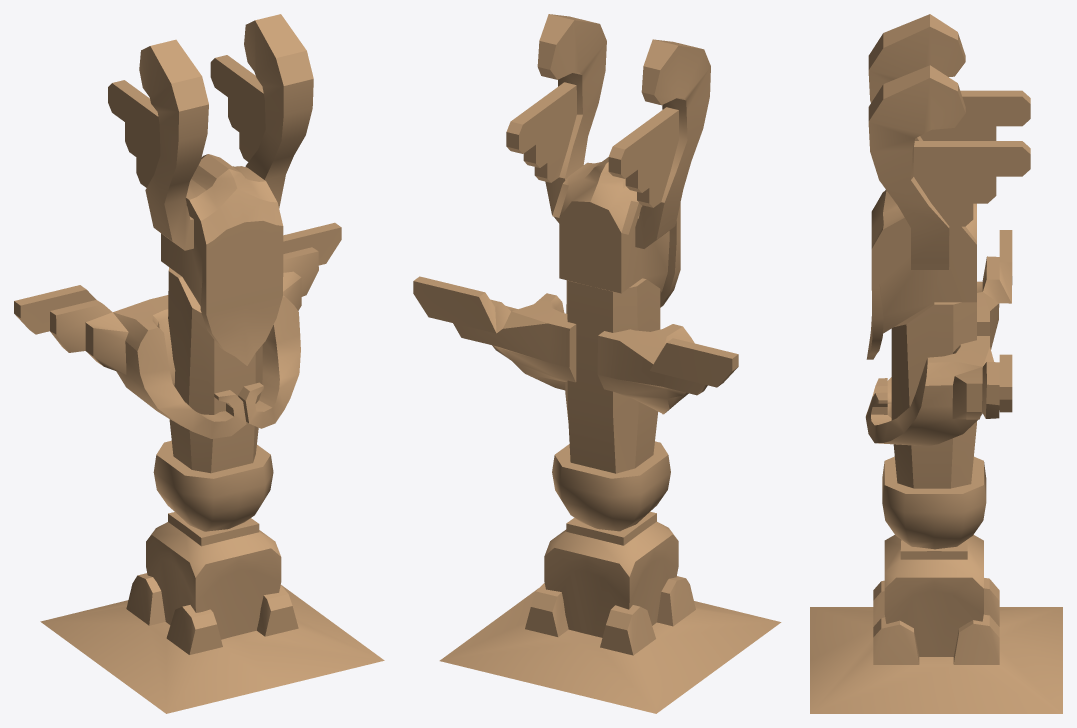
Rendered from OBJ_Sculpture_03.FBX.
3 renders of one model, left to right at view 1: azimuth 30°, elevation 25°; view 2: azimuth 150°, elevation 25°; view 3: azimuth 270°, elevation 25°, orthographic.
Parts seen in each view (by area): view 1: OBJ_Sculpture_03; view 2: OBJ_Sculpture_03; view 3: OBJ_Sculpture_03.
Boxes of the visible parts, x1,y1,x2,y2 form: OBJ_Sculpture_03: [14, 14, 384, 713]; OBJ_Sculpture_03: [413, 14, 781, 713]; OBJ_Sculpture_03: [810, 14, 1062, 713].
Bounding box in the file's own units: 17.62 × 32.19 × 12.
